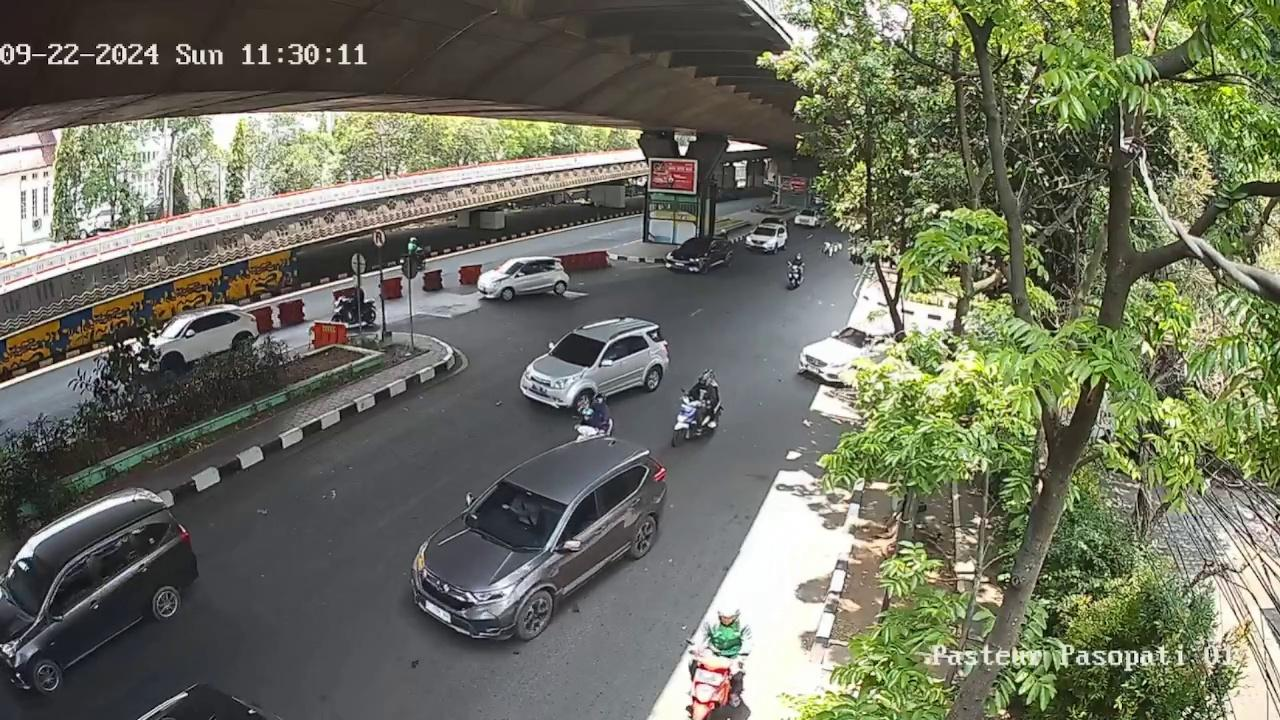pakai: (502, 493, 545, 534)
windshield: (465, 479, 566, 551), (5, 553, 60, 608), (549, 335, 604, 366)
